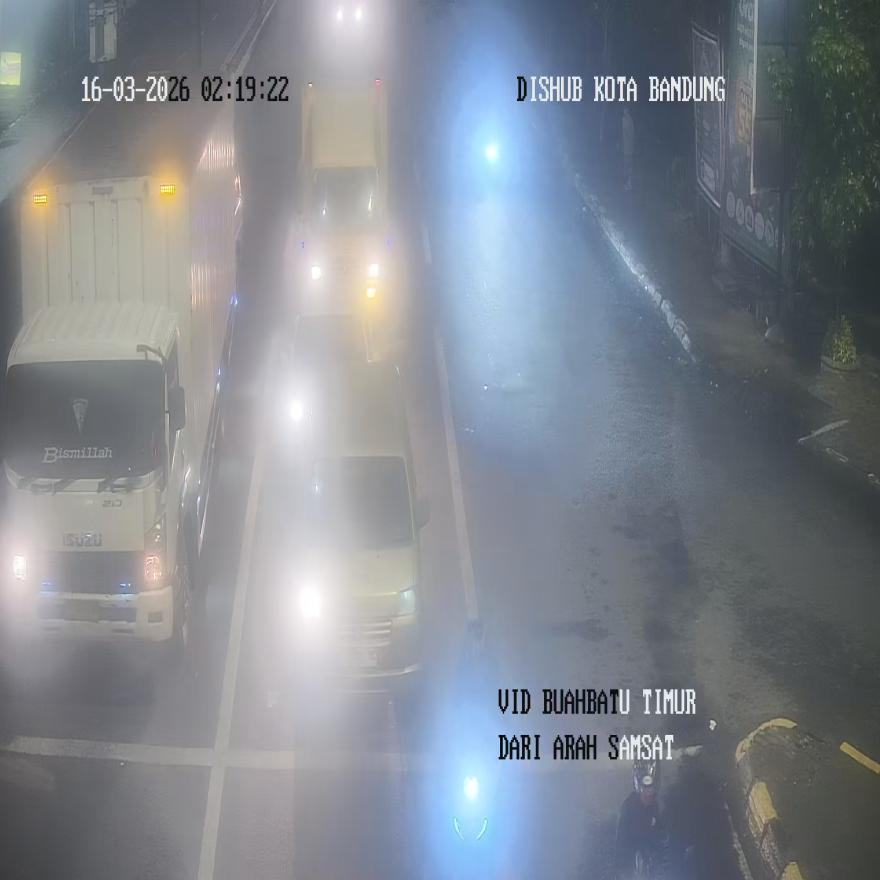Truk berat: (0, 70, 242, 655)
